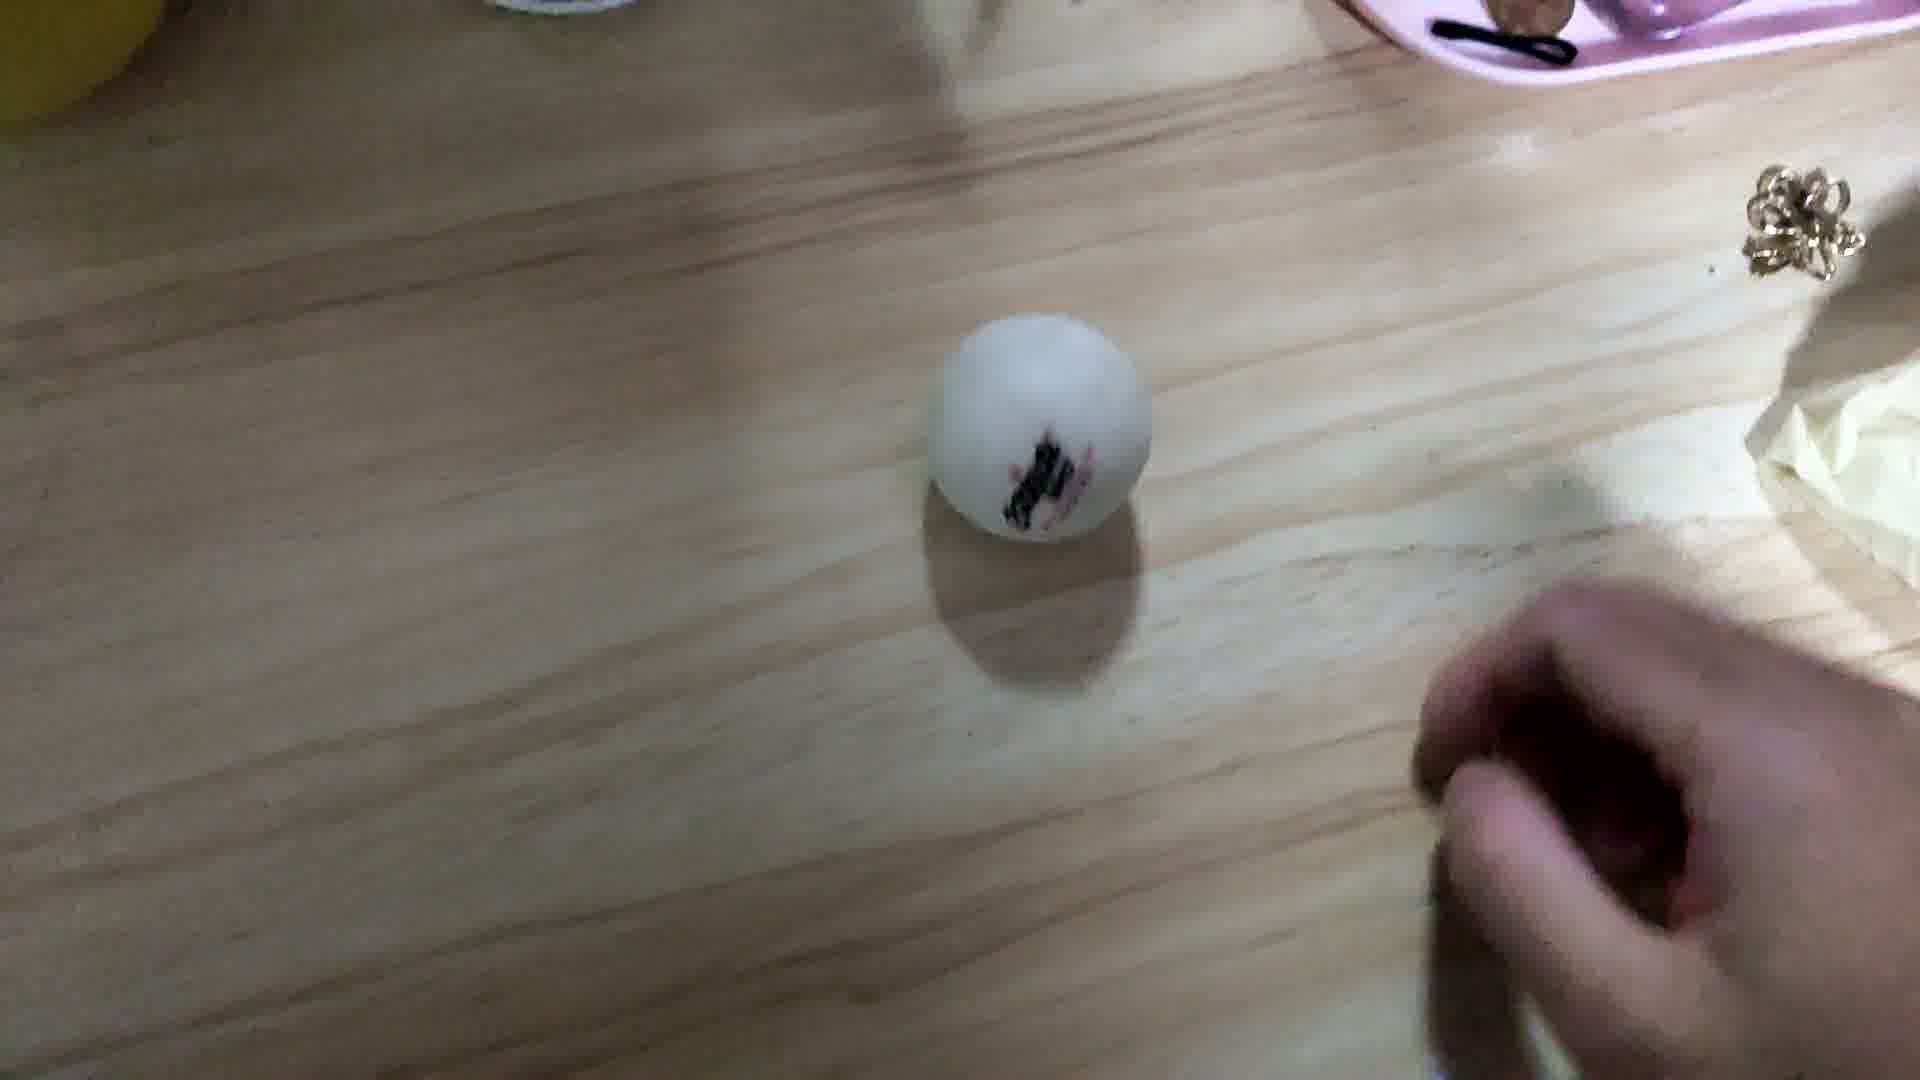Ball: (927, 313, 1156, 549)
